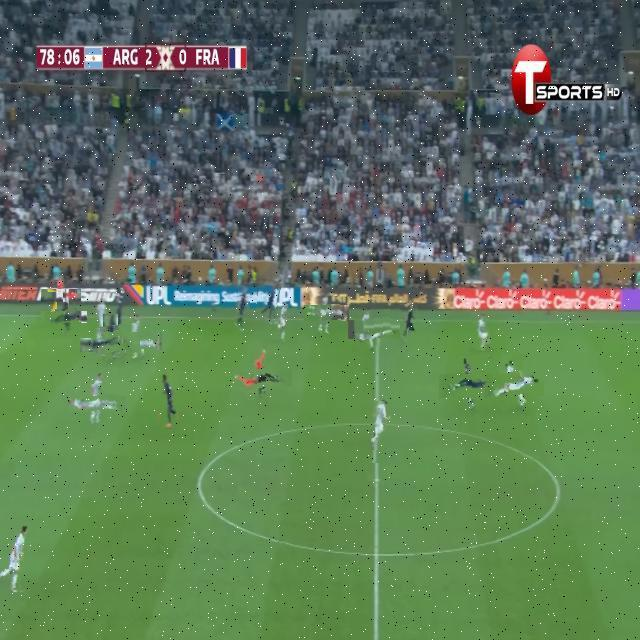player: (0, 507, 33, 600), (448, 363, 494, 410), (491, 362, 537, 407), (371, 402, 399, 465), (114, 322, 154, 362), (91, 325, 131, 365), (78, 384, 117, 423), (355, 310, 393, 348), (159, 368, 179, 432), (234, 286, 258, 335), (48, 302, 80, 334), (311, 297, 342, 329), (402, 303, 423, 350), (473, 310, 492, 360), (262, 280, 280, 324), (275, 304, 289, 348)
referee: (242, 356, 285, 399), (47, 282, 74, 309)
